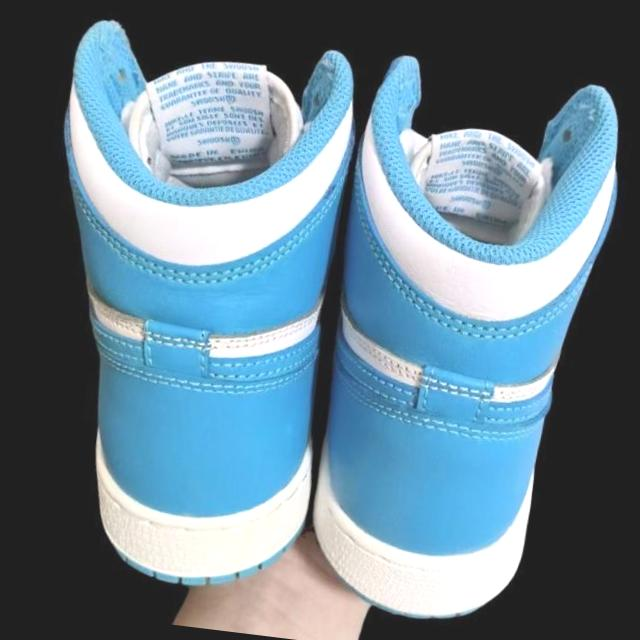nike_original_jordan: (4, 14, 368, 608), (293, 49, 636, 640)
